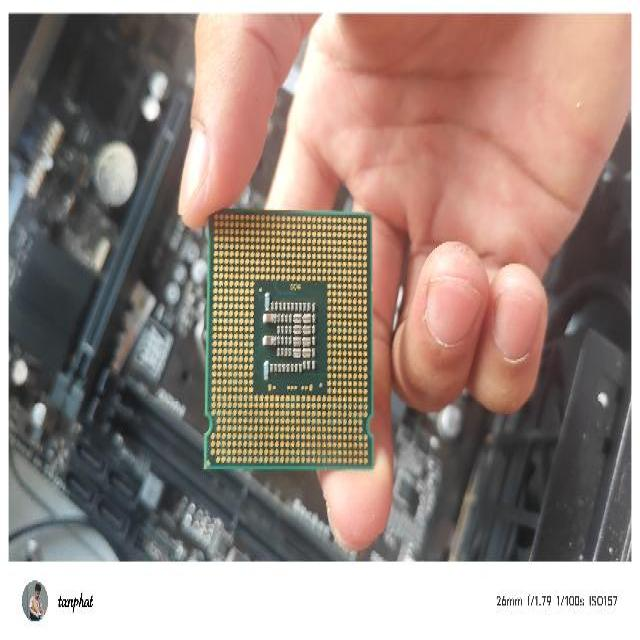CPU: (202, 203, 376, 473)
